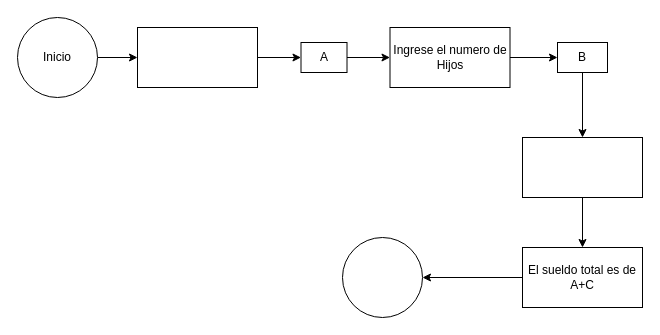
This 660x335 diagram has some shape labels left out. The centre of each missing label's shape, as x and y in pixels:
"C=80*B" belongs at pixel 582 167.
"Fin" belongs at pixel 382 277.
"Ingrese el sueldo" belongs at pixel 197 57.
